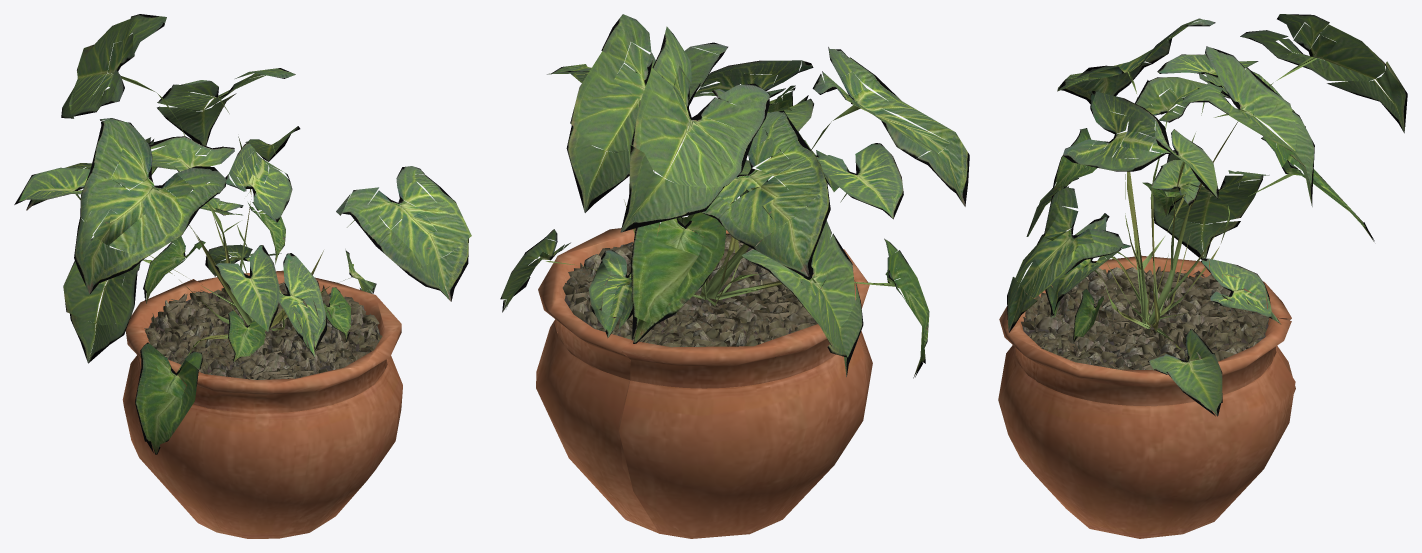
The model's file is potted_plant_02.glb.
3 views of the same model, side by side, from view 1: azimuth 30°, elevation 25°; view 2: azimuth 150°, elevation 25°; view 3: azimuth 270°, elevation 25° (orthographic). The views are drawn at different scales.
Visible parts, largest first — view 1: potted_plant_02_leaves, potted_plant_02_pot, potted_plant_02_dirt; view 2: potted_plant_02_leaves, potted_plant_02_pot, potted_plant_02_dirt; view 3: potted_plant_02_leaves, potted_plant_02_pot, potted_plant_02_dirt.
Boxes of the visible parts, bbox=[...] form: potted_plant_02_leaves: bbox=[14, 14, 471, 454]; potted_plant_02_pot: bbox=[122, 270, 402, 538]; potted_plant_02_dirt: bbox=[144, 282, 382, 387]; potted_plant_02_leaves: bbox=[500, 14, 969, 378]; potted_plant_02_pot: bbox=[536, 224, 872, 538]; potted_plant_02_dirt: bbox=[562, 231, 827, 357]; potted_plant_02_leaves: bbox=[1007, 14, 1407, 416]; potted_plant_02_pot: bbox=[998, 255, 1295, 538]; potted_plant_02_dirt: bbox=[1021, 266, 1271, 370].
Bounding box in the file's own units: 0.5818 × 0.7 × 0.547.
2 materials, 2 textured.
